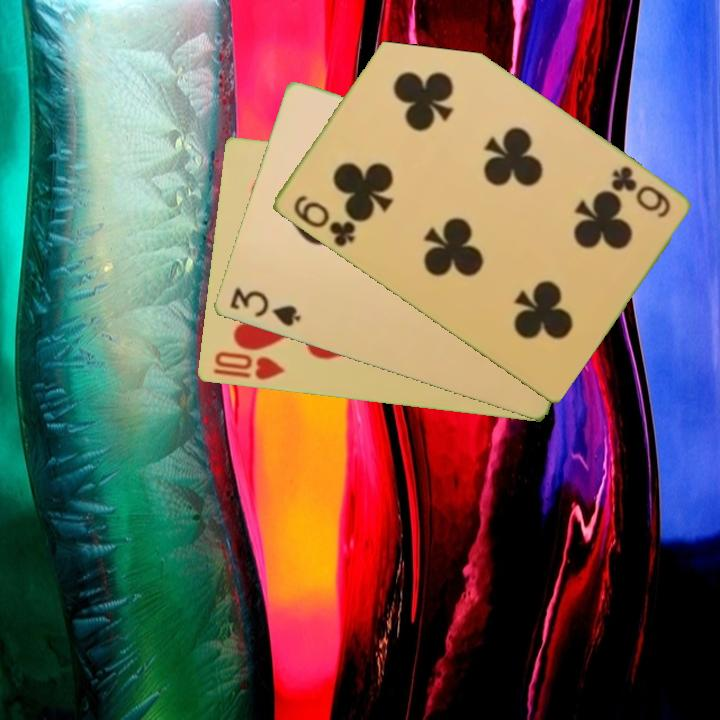10h: (208, 348, 287, 383)
3s: (226, 283, 303, 330)
6c: (289, 191, 358, 250), (607, 162, 673, 221)
